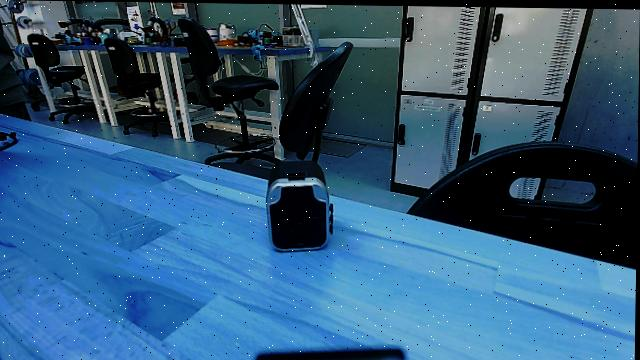adapter: (261, 152, 339, 259)
